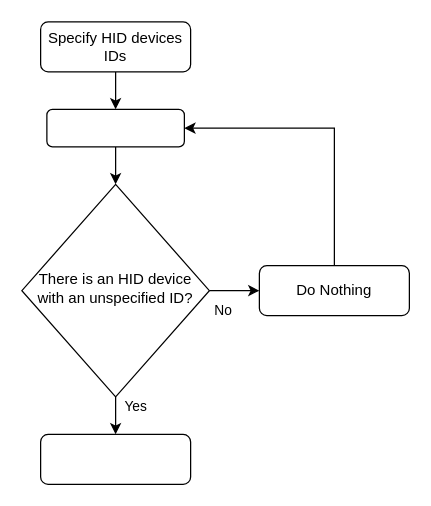
Some shapes in this 431 by 506 pixel diagram are drawn without their labels. Each missing label, with the centre of its shape:
Block all typing and pop warnings: the point at 115,458
Detect HID devices: the point at 115,127
